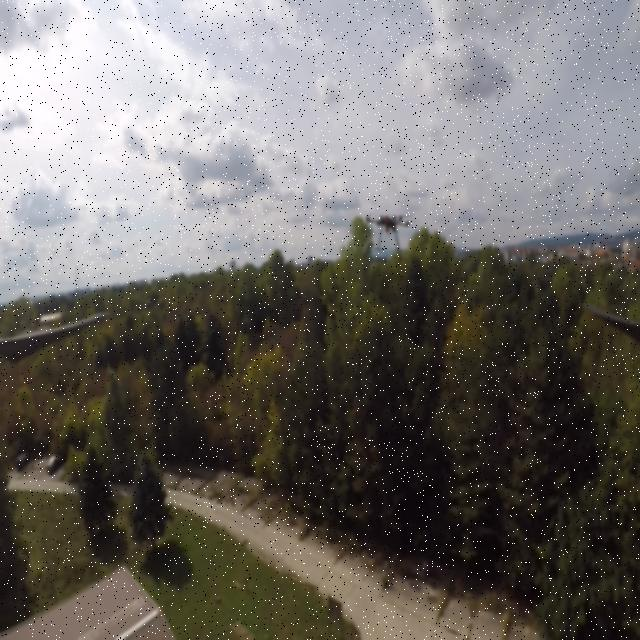UAV: (362, 209, 417, 258)
